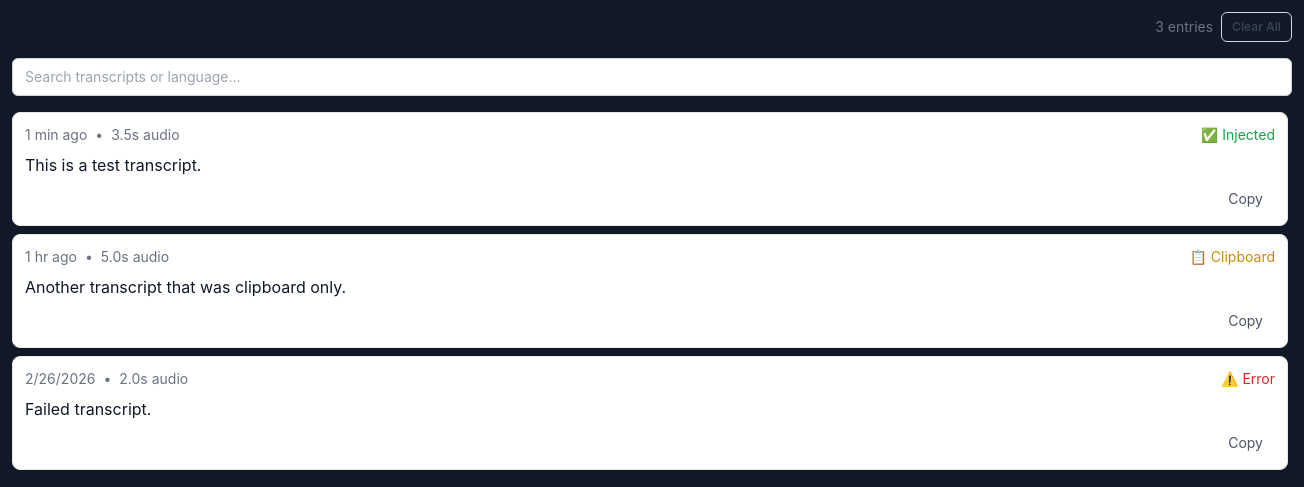
it: HistoryPanel › filters entries by text after debounce and shows match summary
Type "clipboard" into the search field with test id "history-search-input".
click(652, 77); type("clipboard")  # box [12,58,1292,96]
Wait 300 ms
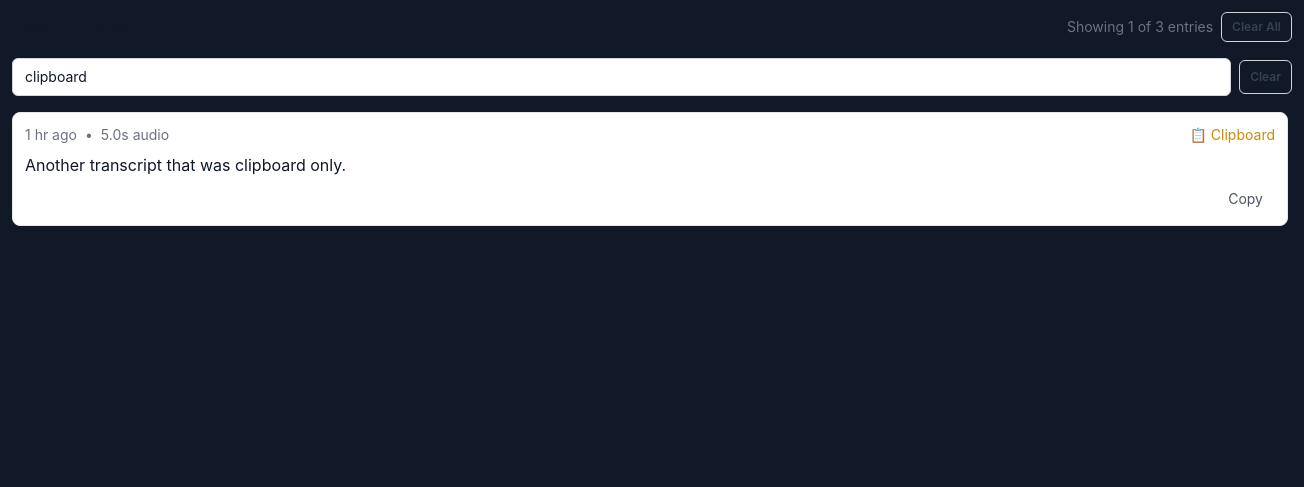
Expected: the text "Another transcript that was clipboard only." is shown, [25,155,346,175]
Result: the text "This is a test transcript." is gone
Result: the text "Showing 1 of 3 entries" is shown at [1067,17,1213,37]
